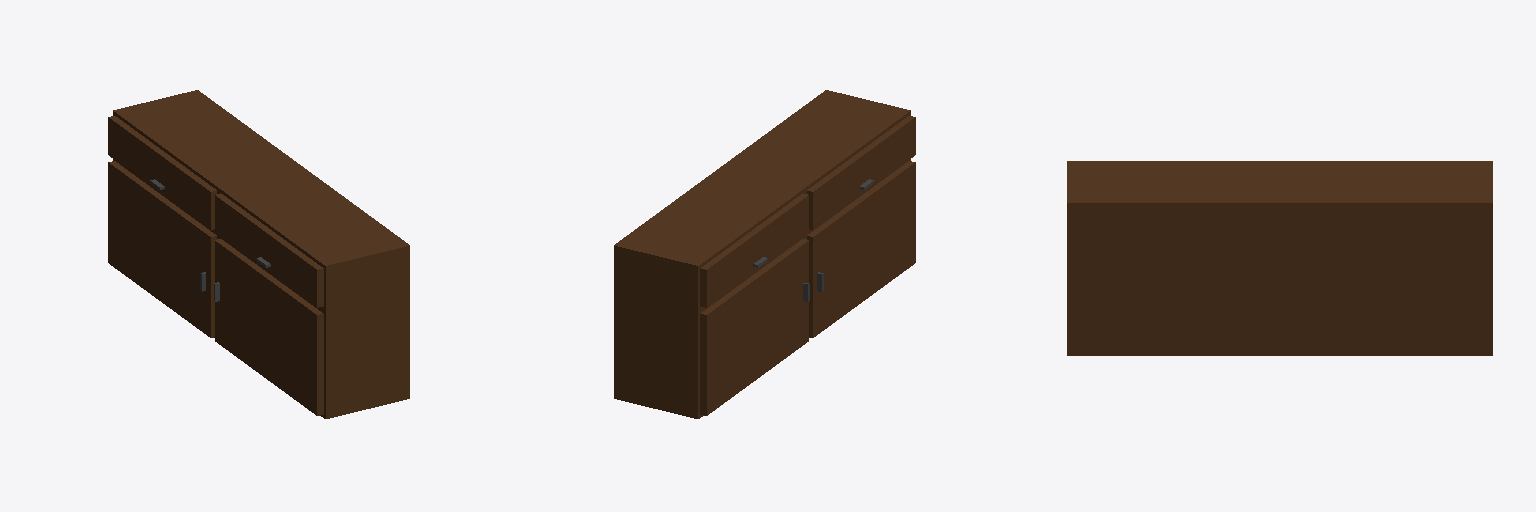
Rendered from cupboard.1.obj.
The picture shows the model from 3 angles: view 1: azimuth 30°, elevation 25°; view 2: azimuth 150°, elevation 25°; view 3: azimuth 270°, elevation 25°; orthographic projection.
Visible parts, largest first — view 1: Cube.041_Cube.042; view 2: Cube.041_Cube.042; view 3: Cube.041_Cube.042.
Part boxes in pixels (x1,y1,x2,y2): Cube.041_Cube.042: (108, 90, 409, 418); Cube.041_Cube.042: (614, 90, 915, 418); Cube.041_Cube.042: (1067, 161, 1492, 355).
Size of the model in its own units: 1.68 by 2.56 by 6.42.